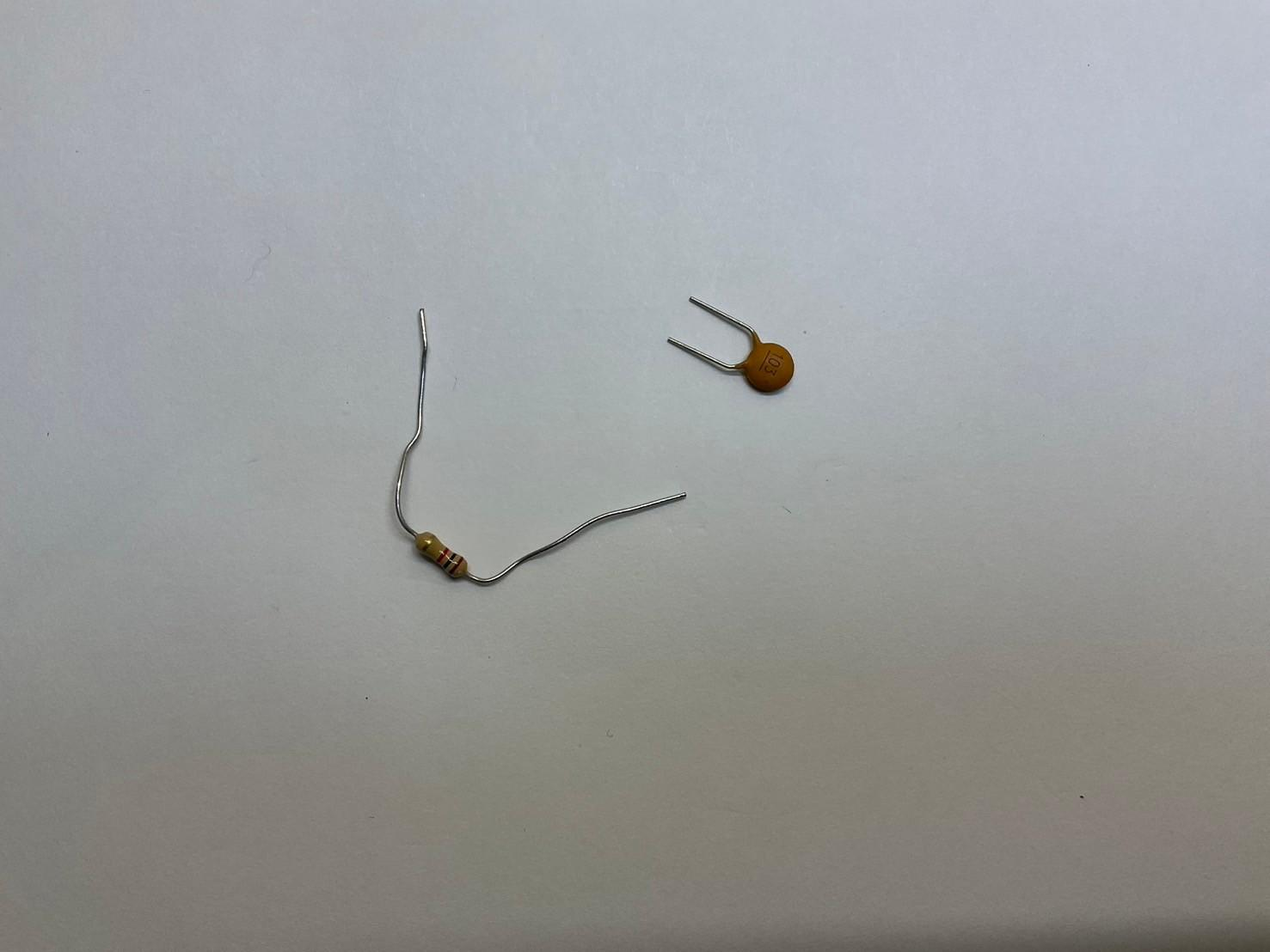resistor: (413, 528, 467, 580)
